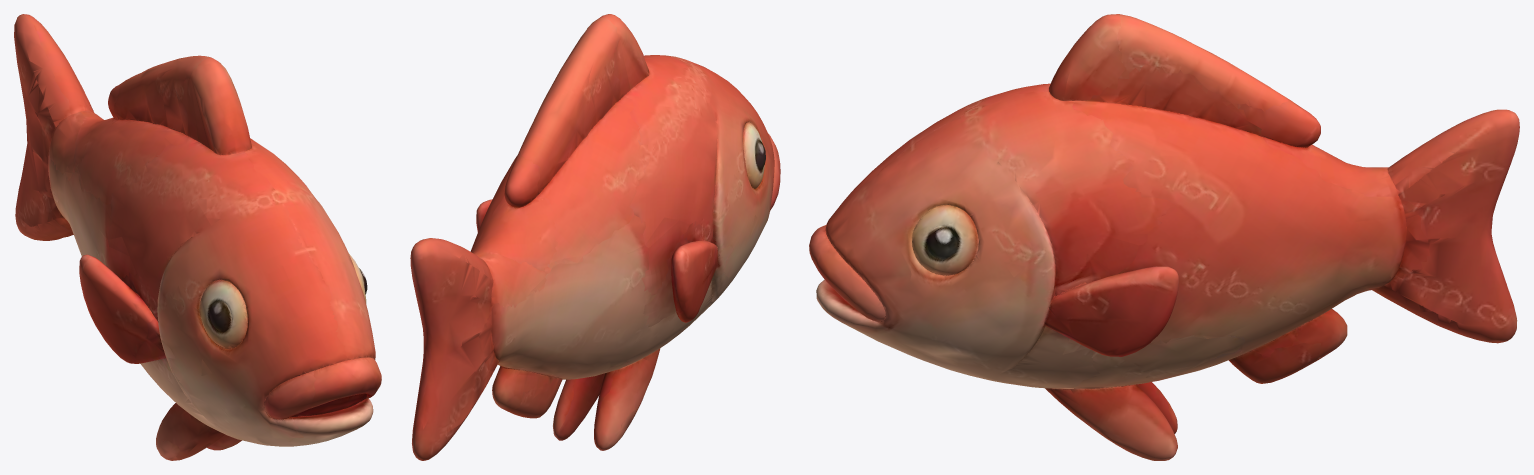
The model's file is snapper_pbr.glb.
3 renders of one model, left to right at view 1: azimuth 30°, elevation 25°; view 2: azimuth 150°, elevation 25°; view 3: azimuth 270°, elevation 25°, orthographic. The views are drawn at different scales.
Parts seen in each view (by area): view 1: model.014; view 2: model.014; view 3: model.014.
Part boxes in pixels (x1,y1,x2,y2): model.014: [14, 14, 381, 460]; model.014: [410, 14, 780, 460]; model.014: [809, 14, 1519, 460].
Bounding box in the file's own units: 0.591 × 1.11 × 1.64.
1 material, 1 textured.
